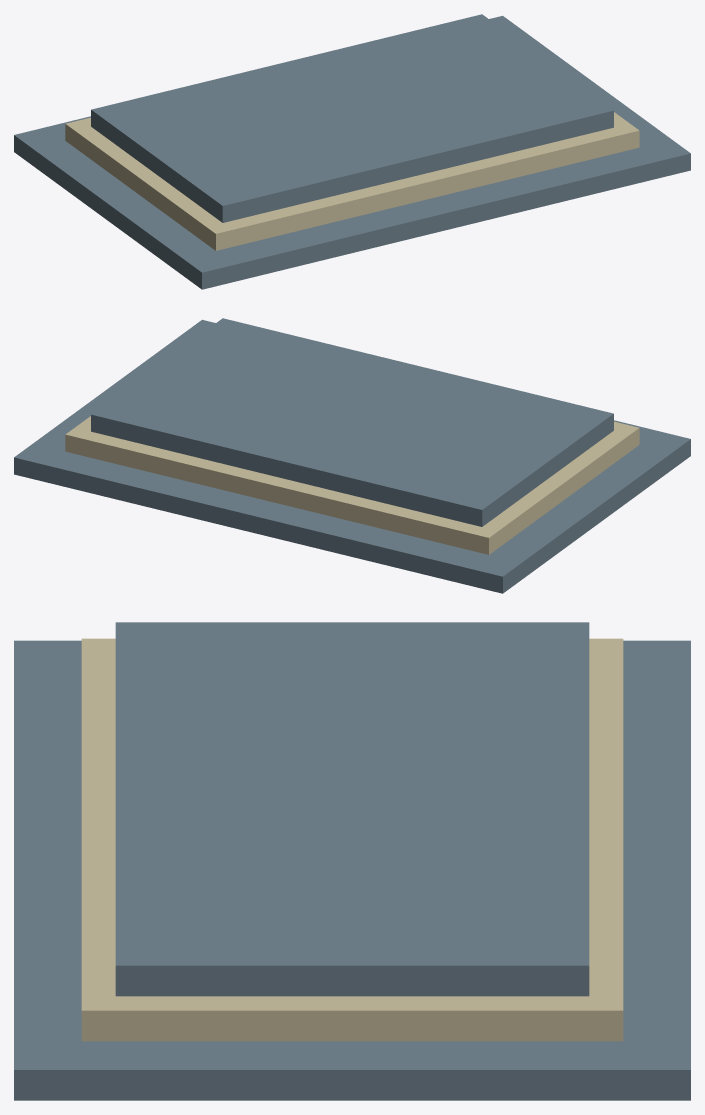
The model's file is film-14.glb.
3 views of the same model, one above another, from view 1: azimuth 30°, elevation 25°; view 2: azimuth 150°, elevation 25°; view 3: azimuth 270°, elevation 25° (orthographic). The views are drawn at different scales.
Parts seen in each view (by area): view 1: Red carpet; view 2: Red carpet; view 3: Red carpet.
Boxes of the visible parts, x1=… form: Red carpet: x1=14, y1=14, x2=690, y2=289; Red carpet: x1=14, y1=318, x2=690, y2=593; Red carpet: x1=14, y1=622, x2=690, y2=1100.
Bounding box in the file's own units: 2.4 × 0.24 × 1.6.
